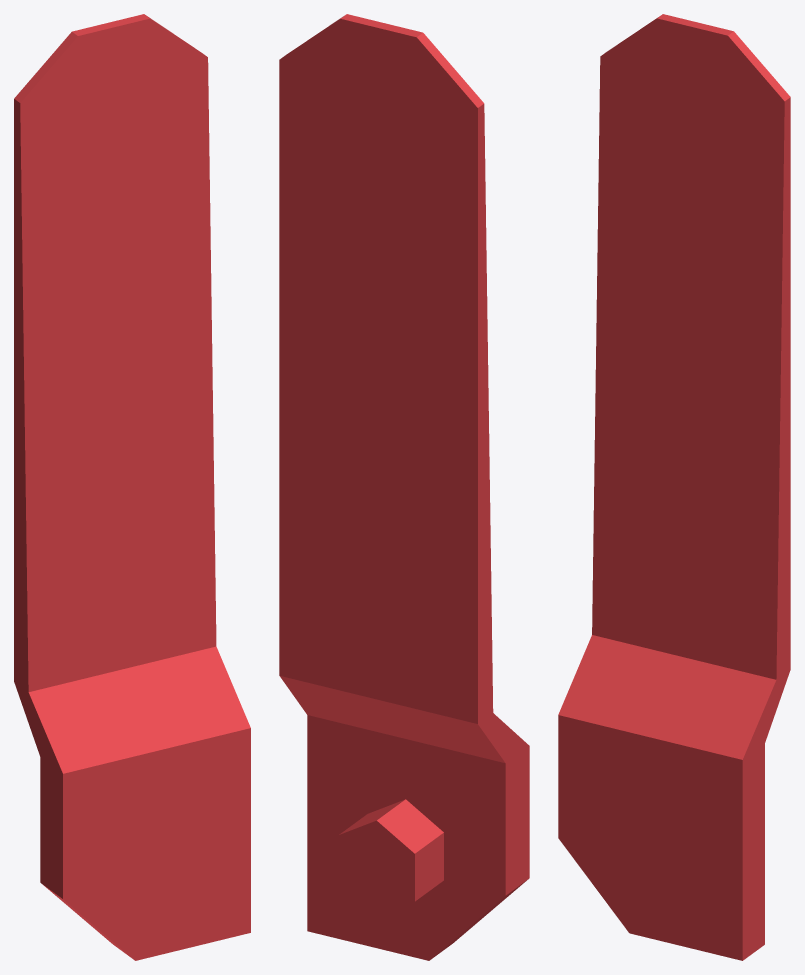
File: Handle_Small.fbx
3 renders of one model, left to right at view 1: azimuth 30°, elevation 25°; view 2: azimuth 150°, elevation 25°; view 3: azimuth 330°, elevation 25°, orthographic. The views are drawn at different scales.
Parts seen in each view (by area): view 1: Handle_Small; view 2: Handle_Small; view 3: Handle_Small.
Boxes of the visible parts, bbox=[...] form: Handle_Small: bbox=[14, 14, 250, 960]; Handle_Small: bbox=[279, 14, 529, 960]; Handle_Small: bbox=[558, 14, 790, 960].
Bounding box in the file's own units: 2.6 × 11.86 × 1.2.
